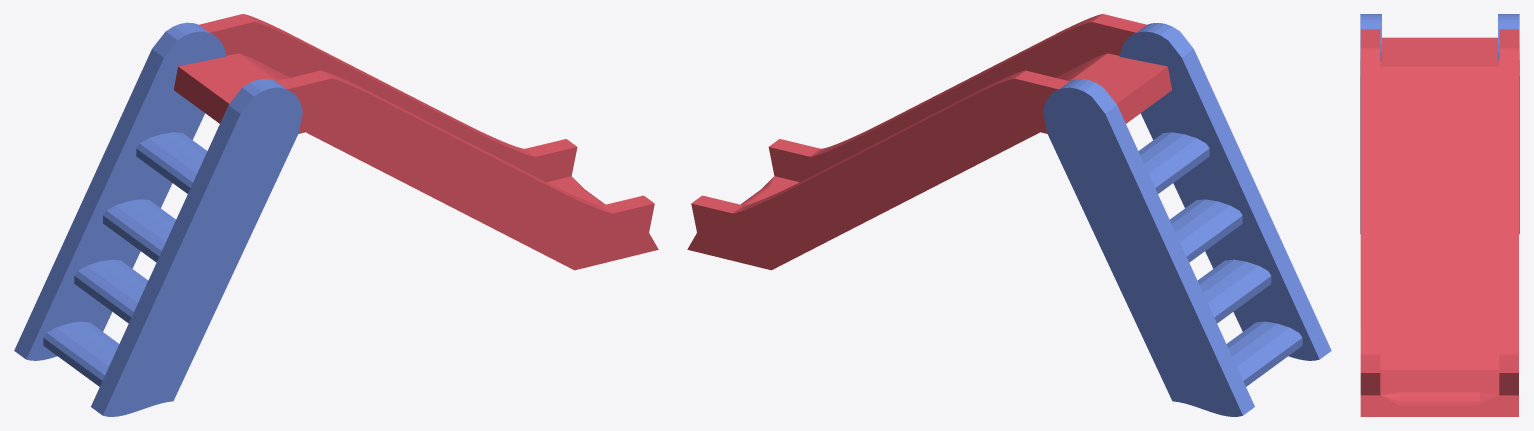
Rendered from slide.fbx.
3 views of the same model, side by side, from view 1: azimuth 30°, elevation 25°; view 2: azimuth 150°, elevation 25°; view 3: azimuth 270°, elevation 25° (orthographic). The views are drawn at different scales.
Visible parts, largest first — view 1: Cube.005, Cube, Slide.011, Slide.012, Slide.019, Slide.001, Cube.001, Cube.003, Cube.002, Cube.004, Slide.014, Slide.022 (+3 smaller); view 2: Cube, Cube.005, Slide.019, Slide.020, Slide.011, Slide.001, Cube.001, Cube.003, Cube.002, Cube.004, Slide.022, Slide.014 (+3 smaller); view 3: Slide.003, Slide.011, Slide.019, Slide.001, Slide.002, Slide.004, Slide.006, Slide.005, Slide.013, Slide.021, Slide.009, Slide.017 (+8 smaller).
Part boxes in pixels (box(x1,y1,x2,y2)): Cube.005: box(91, 79, 302, 416); Cube: box(14, 22, 226, 360); Slide.011: box(319, 81, 602, 247); Slide.012: box(306, 109, 587, 270); Slide.019: box(243, 24, 525, 169); Slide.001: box(173, 53, 274, 123); Cube.001: box(43, 321, 119, 386); Cube.003: box(74, 259, 148, 323); Cube.002: box(103, 199, 175, 262); Cube.004: box(136, 132, 207, 193); Slide.014: box(588, 195, 654, 247); Slide.022: box(522, 139, 577, 182); Cube: box(1043, 79, 1254, 416); Cube.005: box(1119, 23, 1331, 360); Slide.019: box(743, 81, 1026, 247); Slide.020: box(758, 109, 1039, 270); Slide.011: box(820, 24, 1102, 169); Slide.001: box(1071, 53, 1171, 123); Cube.001: box(1226, 321, 1302, 386); Cube.003: box(1197, 259, 1271, 323); Cube.002: box(1170, 199, 1242, 262); Cube.004: box(1138, 132, 1209, 193); Slide.022: box(691, 195, 757, 247); Slide.014: box(768, 139, 823, 182); Slide.003: box(1380, 95, 1499, 341); Slide.011: box(1360, 96, 1380, 290); Slide.019: box(1499, 96, 1518, 290); Slide.001: box(1380, 37, 1499, 66); Slide.002: box(1380, 66, 1499, 94); Slide.004: box(1380, 341, 1499, 369); Slide.006: box(1380, 392, 1499, 416); Slide.005: box(1380, 370, 1499, 395); Slide.013: box(1360, 290, 1380, 354); Slide.021: box(1499, 290, 1518, 354); Slide.009: box(1360, 48, 1380, 96); Slide.017: box(1499, 48, 1518, 96).
Bounding box in the file's own units: 1676 × 839 × 463.
